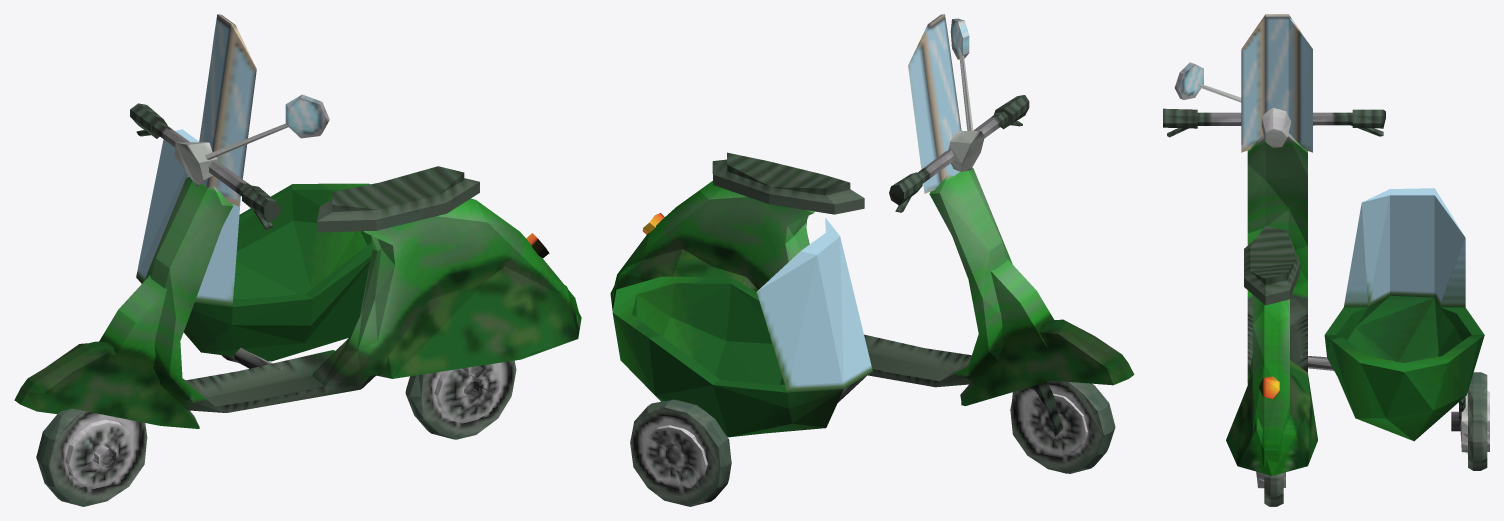
The model's file is Vespa.glb.
The picture shows the model from 3 angles, left to right: view 1: azimuth 30°, elevation 25°; view 2: azimuth 150°, elevation 25°; view 3: azimuth 270°, elevation 25°; orthographic projection. The views are drawn at different scales.
Visible parts, largest first — view 1: Vespa; view 2: Vespa; view 3: Vespa.
Boxes of the visible parts, left/top/right/bottom form: Vespa: left=14, top=14, right=581, bottom=506; Vespa: left=610, top=14, right=1134, bottom=506; Vespa: left=1163, top=14, right=1489, bottom=506.
Bounding box in the file's own units: 137 × 110 × 83.28.
1 material, 1 textured.
